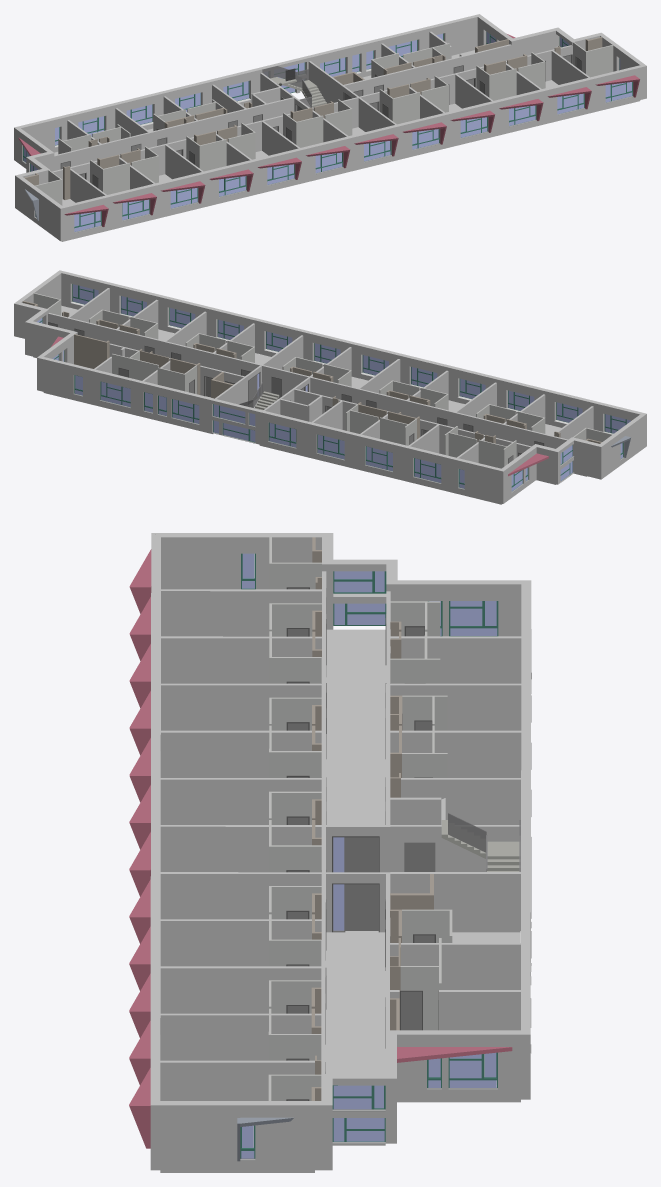
Rendered from floor2_o2.glb.
The picture shows the model from 3 angles, top to bottom: view 1: azimuth 30°, elevation 25°; view 2: azimuth 150°, elevation 25°; view 3: azimuth 270°, elevation 25°; orthographic projection. The views are drawn at different scales.
Visible parts, largest first — view 1: IfcWallStandardCase/ARVS-02.011, IfcWallStandardCase/AR.021, IfcWindow/ARA.114, IfcWallStandardCase/ARSS-03.035, IfcWall/ARSEIN - 018.014, IfcDoor/ARSU.081, IfcBuildingElementProxy/Sisekäsipuu.002, IfcStairFlight/ARSS - 035.002; view 2: IfcWallStandardCase/ARVS-02.011, IfcWindow/ARA.114, IfcWallStandardCase/AR.021, IfcWallStandardCase/ARSS-03.035, IfcDoor/ARSU.081; view 3: IfcWallStandardCase/ARVS-02.011, IfcWallStandardCase/AR.021, IfcWindow/ARA.114, IfcWall/ARSEIN - 018.014, IfcDoor/ARSU.081, IfcWallStandardCase/ARSS-03.035, IfcStairFlight/ARSS - 035.002, IfcBuildingElementProxy/Sisekäsipuu.002.
Part boxes in pixels (left/top/right/bottom): IfcWallStandardCase/ARVS-02.011: left=14, top=14, right=646, bottom=241; IfcWallStandardCase/AR.021: left=35, top=42, right=613, bottom=205; IfcWindow/ARA.114: left=22, top=31, right=633, bottom=232; IfcWallStandardCase/ARSS-03.035: left=24, top=37, right=602, bottom=199; IfcWall/ARSEIN - 018.014: left=18, top=34, right=639, bottom=226; IfcDoor/ARSU.081: left=60, top=54, right=581, bottom=188; IfcBuildingElementProxy/Sisekäsipuu.002: left=262, top=66, right=312, bottom=107; IfcStairFlight/ARSS - 035.002: left=270, top=77, right=326, bottom=107; IfcWallStandardCase/ARVS-02.011: left=14, top=270, right=646, bottom=504; IfcWindow/ARA.114: left=37, top=284, right=630, bottom=492; IfcWallStandardCase/AR.021: left=33, top=293, right=612, bottom=468; IfcWallStandardCase/ARSS-03.035: left=22, top=301, right=601, bottom=443; IfcDoor/ARSU.081: left=48, top=322, right=544, bottom=463; IfcWallStandardCase/ARVS-02.011: left=150, top=533, right=531, bottom=1172; IfcWallStandardCase/AR.021: left=268, top=537, right=452, bottom=1100; IfcWindow/ARA.114: left=240, top=553, right=531, bottom=1160; IfcWall/ARSEIN - 018.014: left=129, top=549, right=512, bottom=1148; IfcDoor/ARSU.081: left=286, top=587, right=438, bottom=1100; IfcWallStandardCase/ARSS-03.035: left=311, top=537, right=433, bottom=1100; IfcStairFlight/ARSS - 035.002: left=441, top=820, right=519, bottom=871; IfcBuildingElementProxy/Sisekäsipuu.002: left=448, top=813, right=520, bottom=871.
Bounding box in the file's own units: 64.42 × 4.8 × 18.77.
